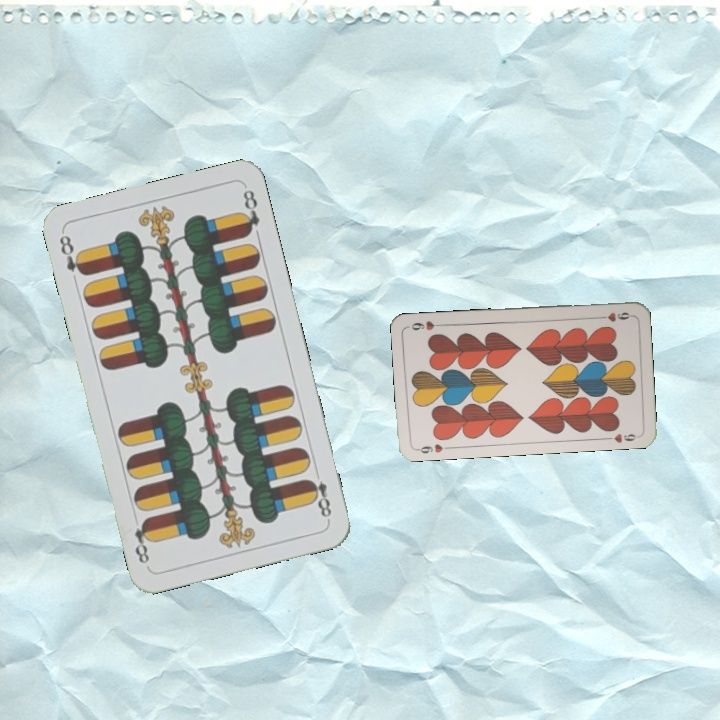E8: (304, 465, 334, 523), (55, 231, 89, 279)
H9: (593, 308, 634, 324), (412, 440, 445, 456)
